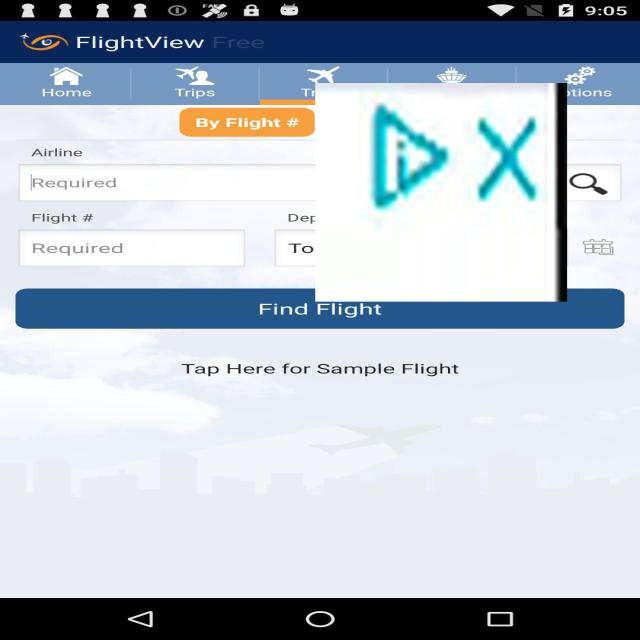sneaking: (315, 83, 567, 302)
